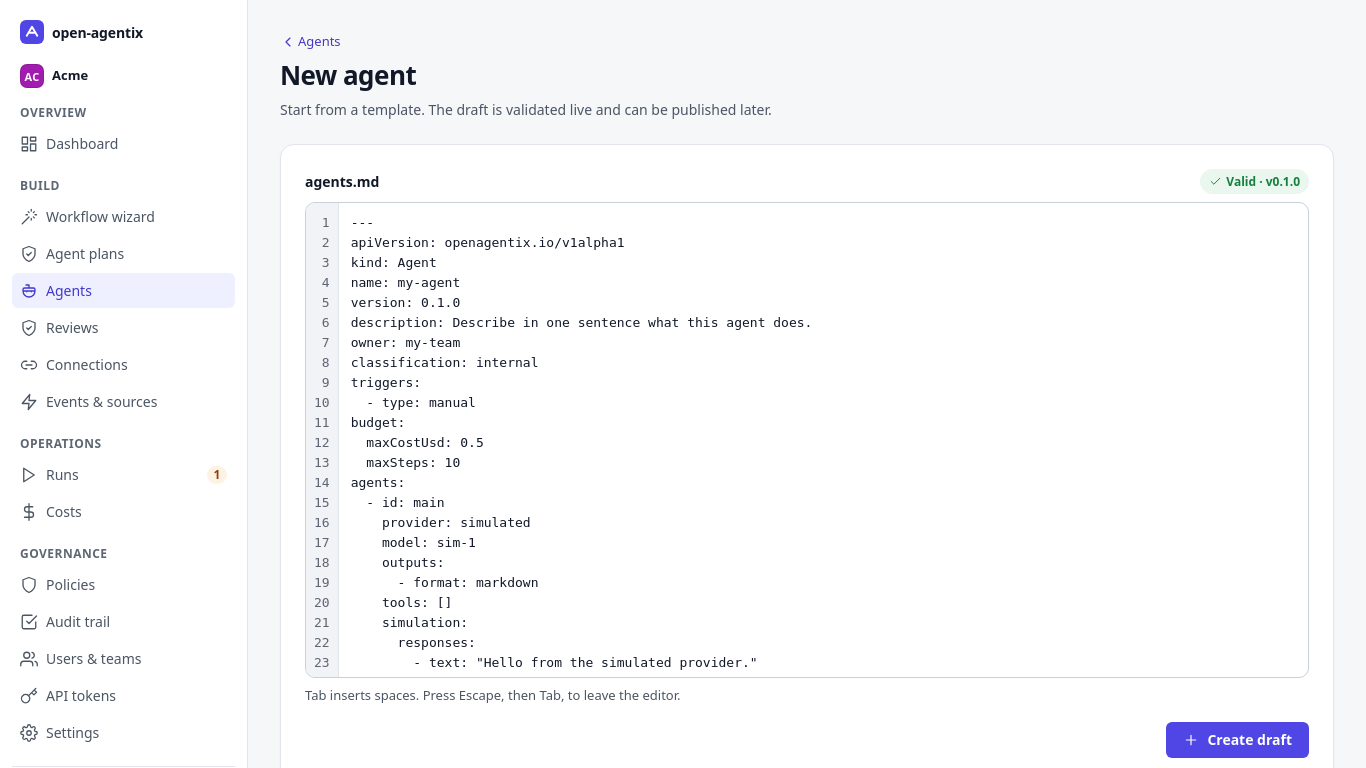
Scenario: new agent › creates a draft from the template
The image size is (1366, 768).
Expected: the text "Valid · v0.1.0" is shown, left=1200, top=169, right=1309, bottom=194
What coordinates should you click on to do the following:
click the button "Create draft"
I would click on:
 (1238, 740)
Its box is left=1166, top=722, right=1309, bottom=758.
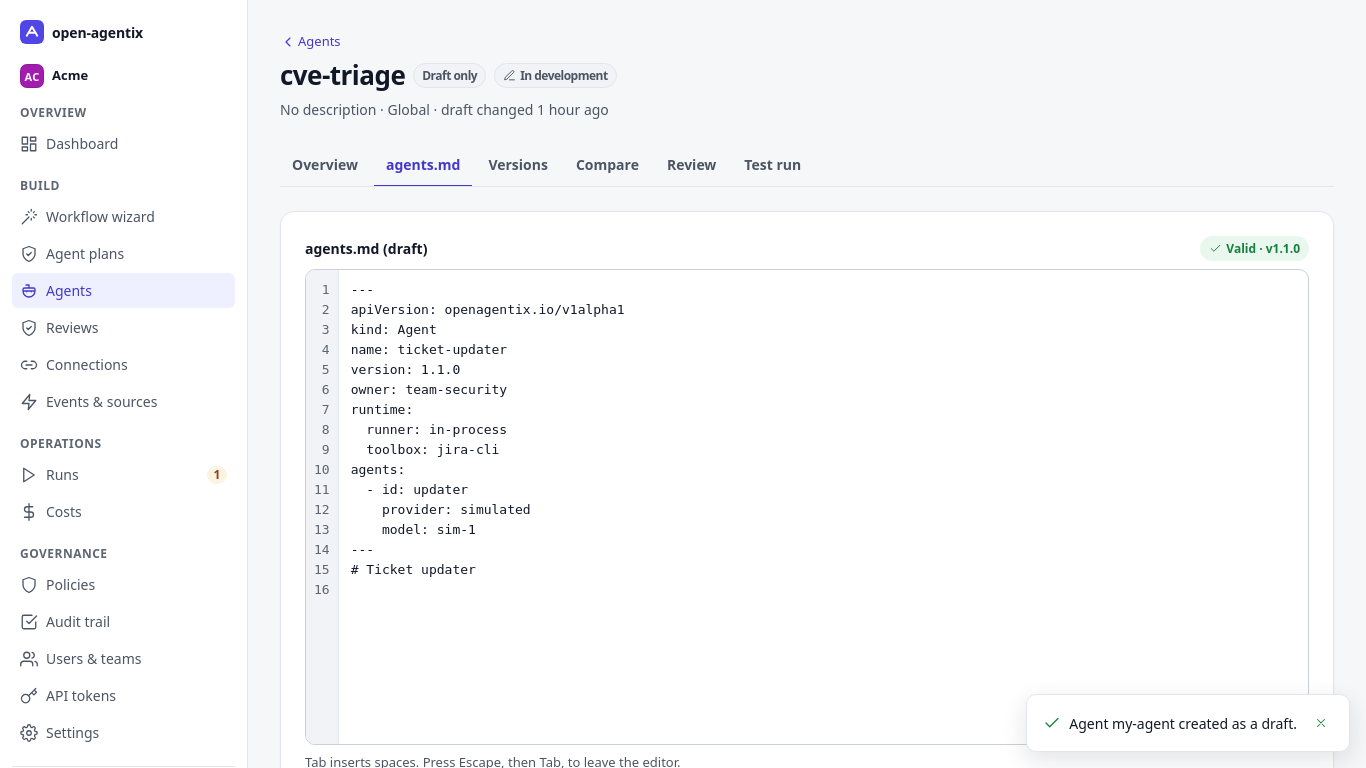
Result: the text "Agent my-agent created as a draft." is shown at left=1069, top=712, right=1297, bottom=734
